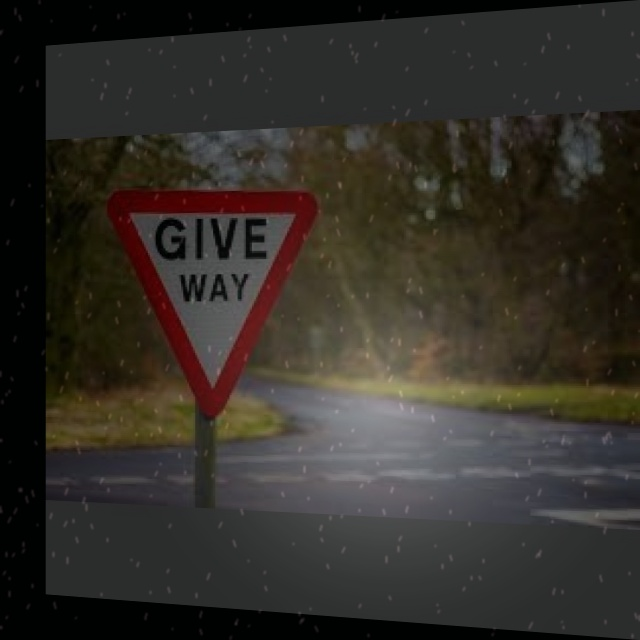Give_Way: (112, 189, 310, 409)
